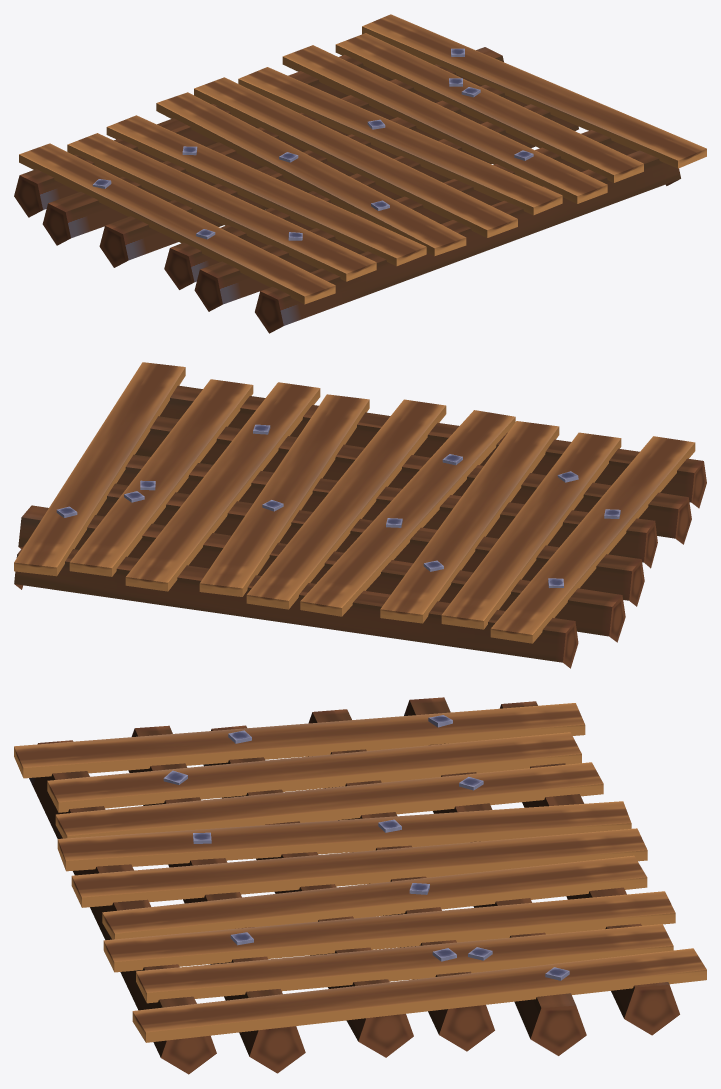
File: Raft2.fbx
3 renders of one model, top to bottom at view 1: azimuth 30°, elevation 25°; view 2: azimuth 150°, elevation 25°; view 3: azimuth 270°, elevation 25°, orthographic. The views are drawn at different scales.
Visible parts, largest first — view 1: Raft2; view 2: Raft2; view 3: Raft2.
Boxes of the visible parts, <box> form: Raft2: <box>14,14,706,333</box>; Raft2: <box>14,362,706,668</box>; Raft2: <box>14,697,706,1074</box>.
Bounding box in the file's own units: 595 × 50.03 × 506.
